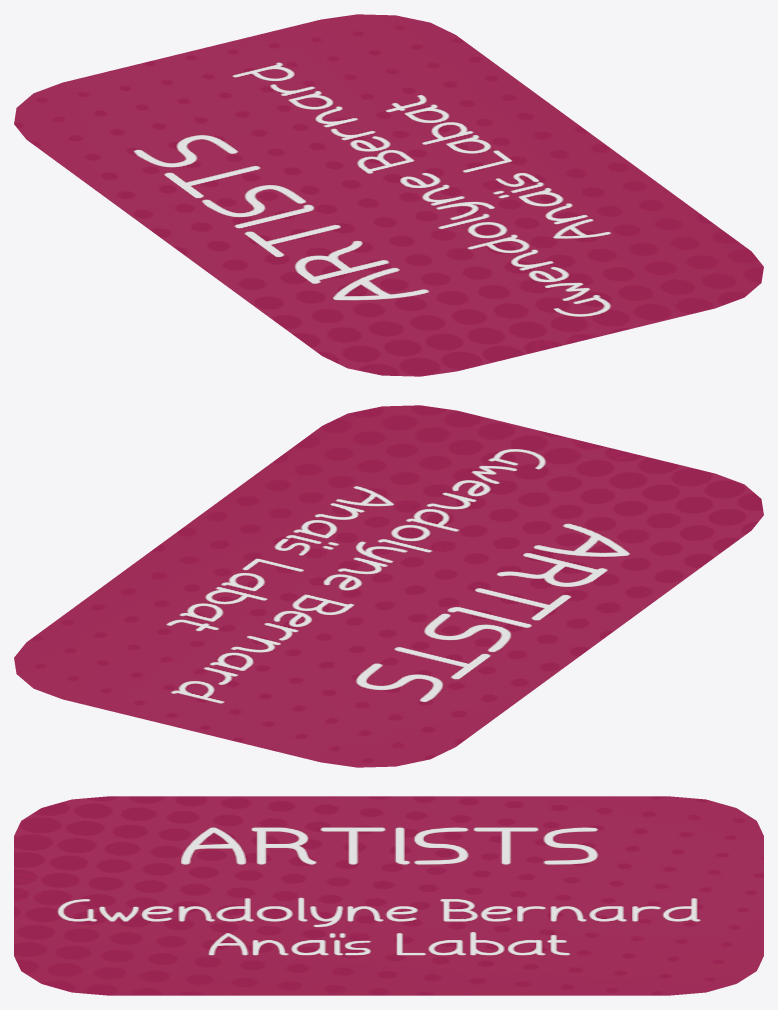
The model's file is Asset_CarteCredit_03.fbx.
3 views of the same model, one above another, from view 1: azimuth 30°, elevation 25°; view 2: azimuth 150°, elevation 25°; view 3: azimuth 270°, elevation 25° (orthographic). The views are drawn at different scales.
Parts seen in each view (by area): view 1: Asset_CarteCredit_03; view 2: Asset_CarteCredit_03; view 3: Asset_CarteCredit_03.
Part boxes in pixels (x1=…): Asset_CarteCredit_03: x1=14, y1=14, x2=763, y2=376; Asset_CarteCredit_03: x1=14, y1=405, x2=763, y2=767; Asset_CarteCredit_03: x1=14, y1=796, x2=763, y2=995.
Size of the model in its own units: 236 by 1.53e-05 by 376.
